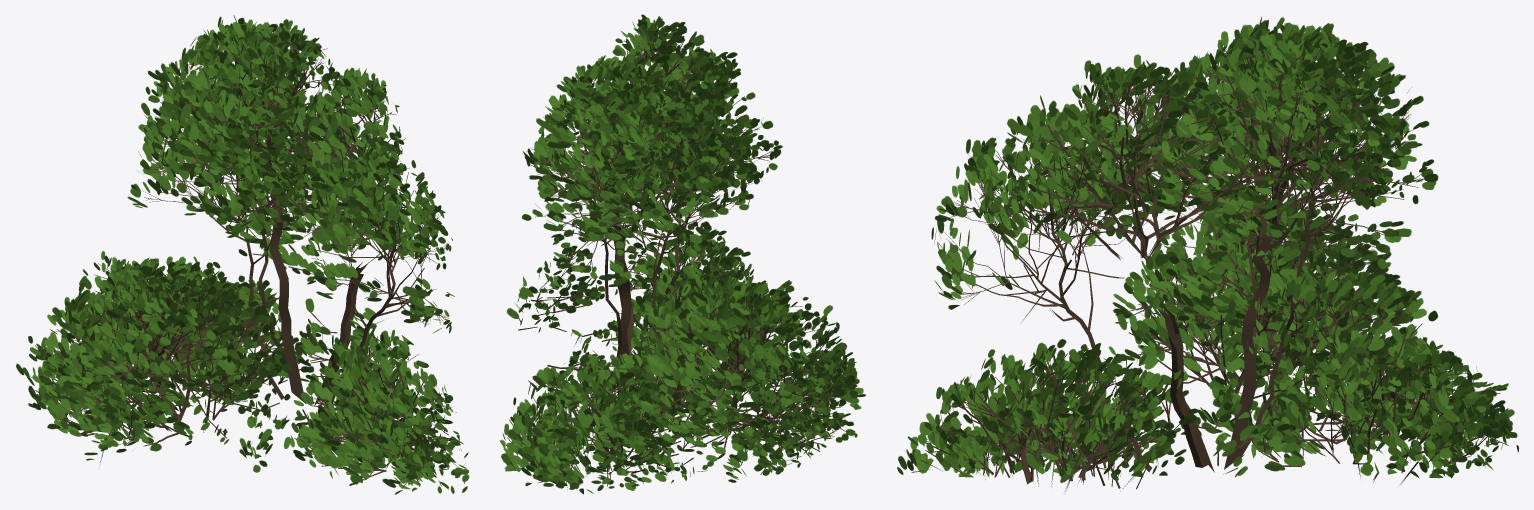
3 views of the same model, side by side, from view 1: azimuth 30°, elevation 25°; view 2: azimuth 150°, elevation 25°; view 3: azimuth 270°, elevation 25° (orthographic). The views are drawn at different scales.
Parts seen in each view (by area): view 1: oak 01.001_trunk_Mat.001_0.457; view 2: oak 01.001_trunk_Mat.001_0.457; view 3: oak 01.001_trunk_Mat.001_0.457.
Part boxes in pixels (x1=…): oak 01.001_trunk_Mat.001_0.457: x1=16, y1=15, x2=469, y2=494; oak 01.001_trunk_Mat.001_0.457: x1=500, y1=14, x2=865, y2=494; oak 01.001_trunk_Mat.001_0.457: x1=897, y1=16, x2=1518, y2=491.
Size of the model in its own units: 3.14 by 3.84 by 4.82.
Materials: 2 (1 with a texture image).
